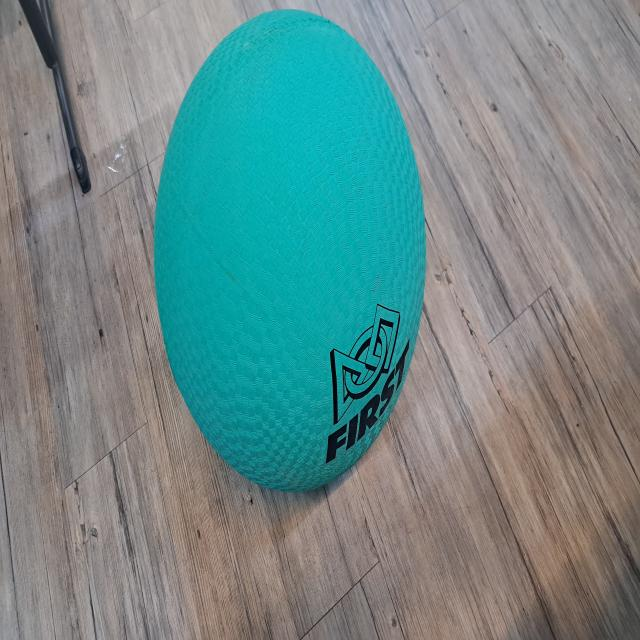ALGAE: (152, 8, 427, 494)
